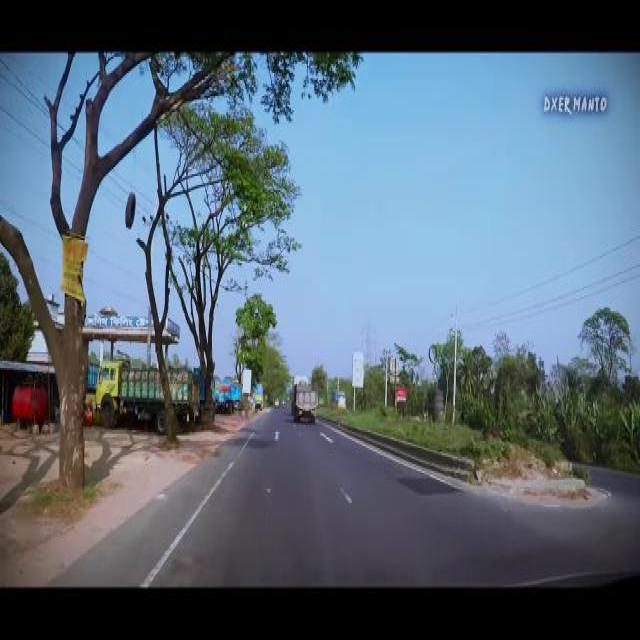truck: (93, 351, 199, 435), (289, 372, 319, 424), (328, 386, 346, 409)
